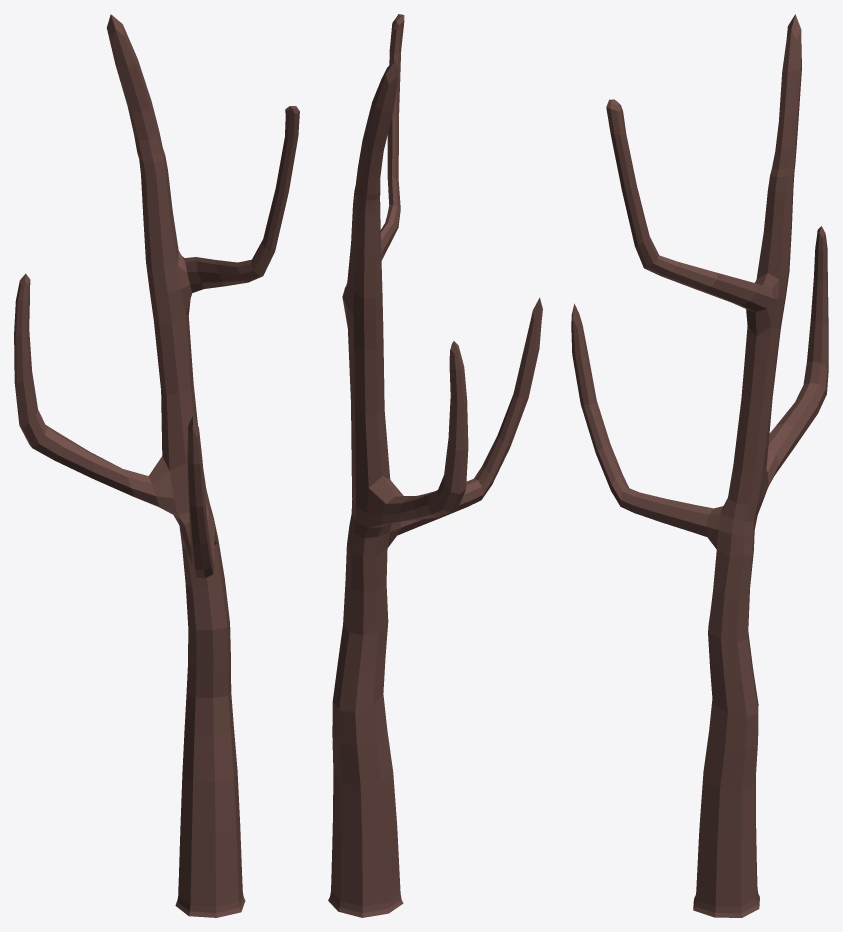
The model's file is CommonTree_Dead_3-optimized.glb.
3 views of the same model, side by side, from view 1: azimuth 30°, elevation 25°; view 2: azimuth 150°, elevation 25°; view 3: azimuth 270°, elevation 25° (orthographic). The views are drawn at different scales.
Parts seen in each view (by area): view 1: CommonTree_Dead_3; view 2: CommonTree_Dead_3; view 3: CommonTree_Dead_3.
Boxes of the visible parts, <box> form: CommonTree_Dead_3: <box>14,14,299,917</box>; CommonTree_Dead_3: <box>328,14,542,917</box>; CommonTree_Dead_3: <box>571,14,828,917</box>.
Size of the model in its own units: 1.36 by 6.43 by 1.74.
